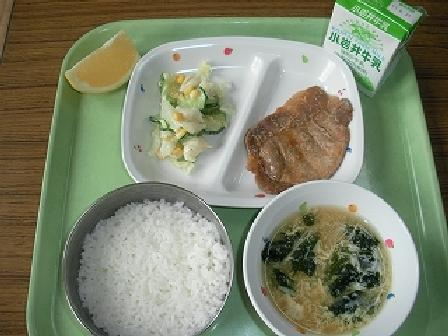Citrus: (63, 28, 145, 98)
Meat: (245, 83, 358, 188)
Milk: (314, 4, 418, 70)
Rice: (56, 177, 235, 335)
Salad: (146, 60, 237, 168)
Soups: (243, 180, 420, 335)
